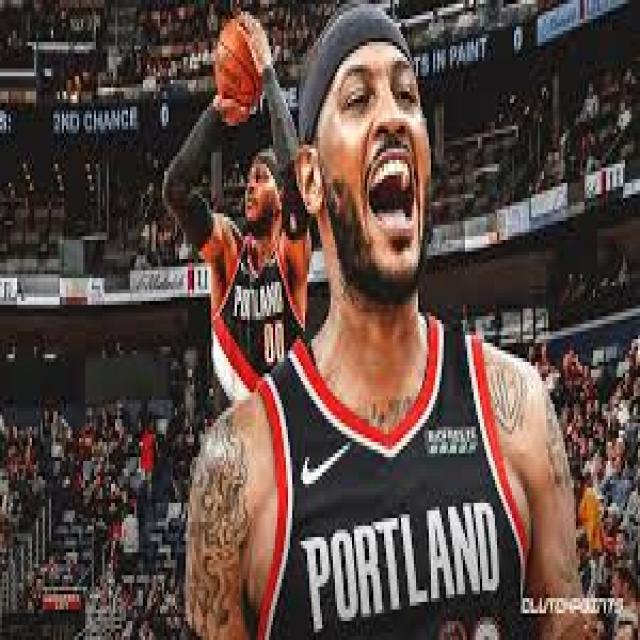rim: (213, 22, 264, 110)
